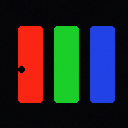0 point: (18, 66, 24, 72)
